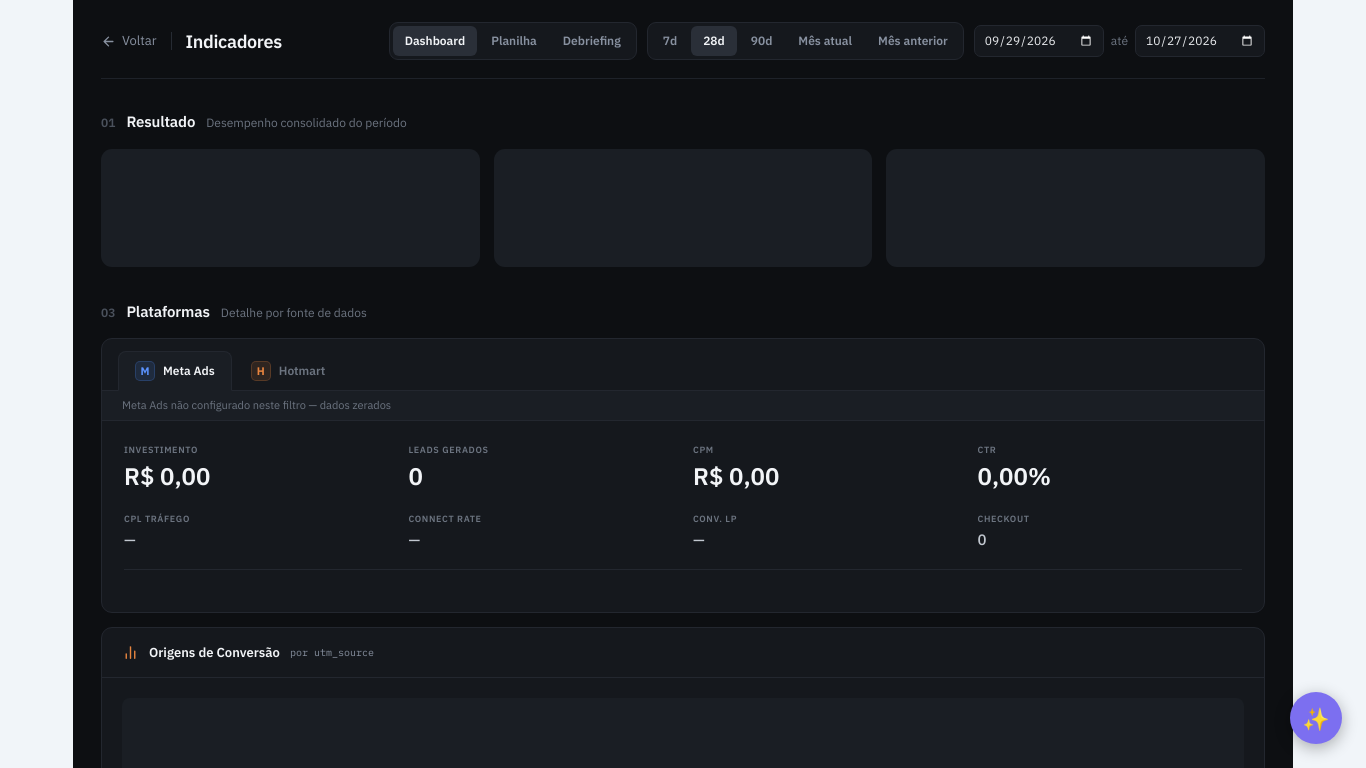
it: IndicadoresPage — resposta desatualizada da Hotmart › mantém o total da janela de datas mais recente mesmo quando a resposta da janela antiga chega depois
Step 1. Type "2026-07-02" into the 1st date field → (1039, 41), box [974, 25, 1104, 57]
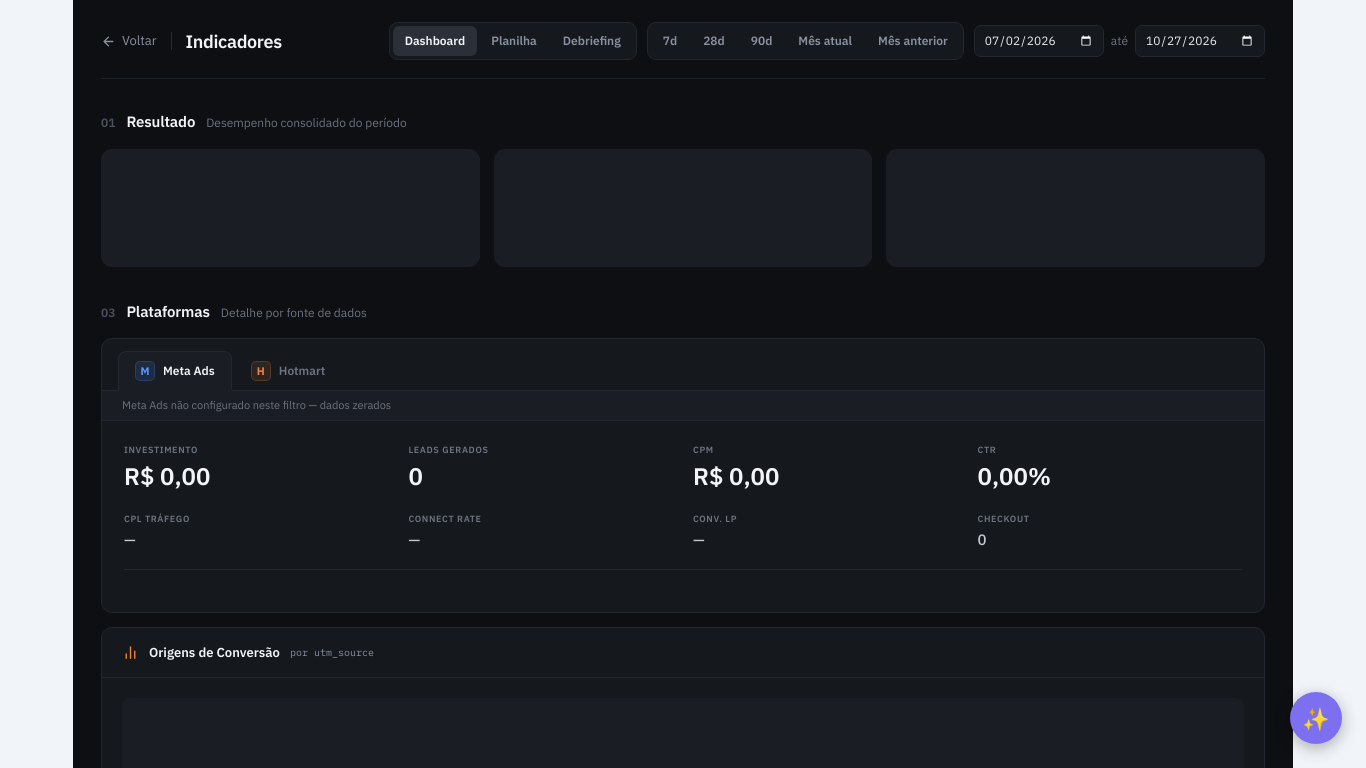
Step 2. Type "2026-08-25" into the 2nd date field → (1200, 41), box [1135, 25, 1265, 57]
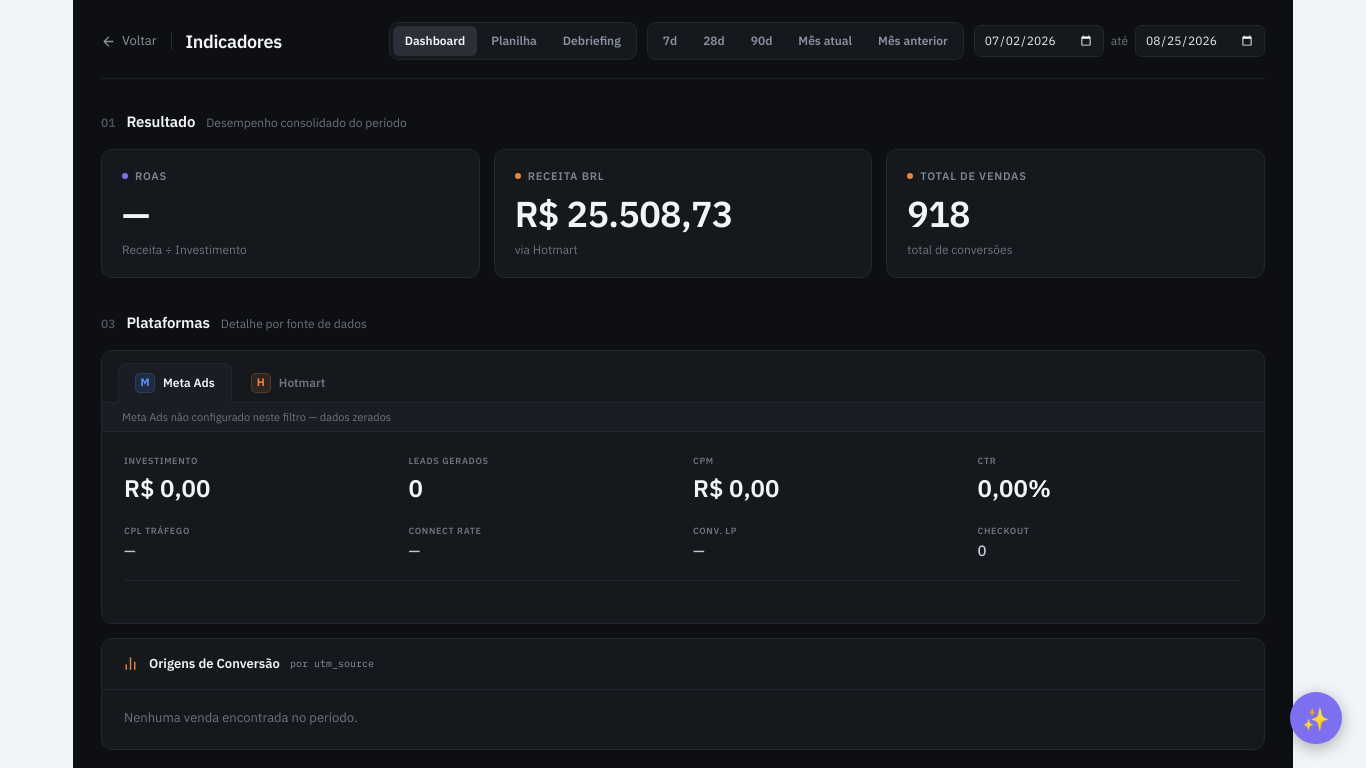
Expected: the text "918" is shown, [907, 190, 970, 237]
